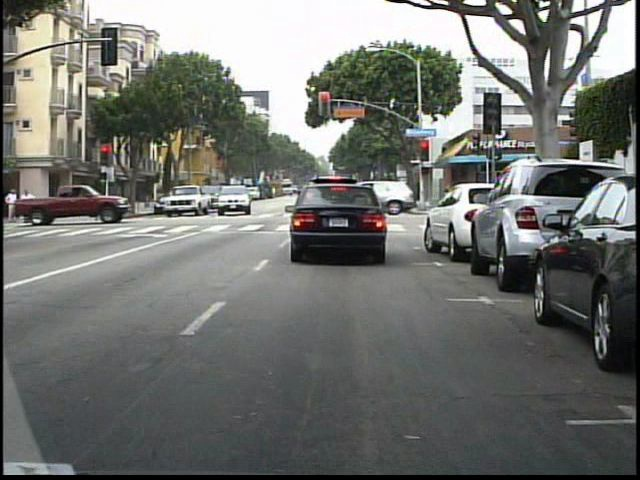person: (20, 186, 38, 225), (3, 185, 20, 226)
